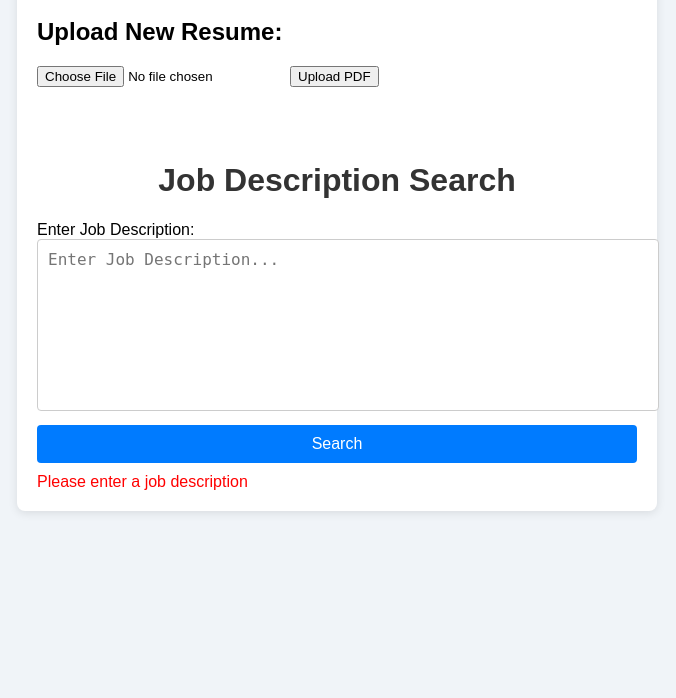
Test: App Component › displays evaluation results after successful search
The width and height of the screenshot is (676, 698).
Type "Software Engineer" into the text box labelled "Enter Job Description:" at x=348, y=325, box 37,239 -> 659,411
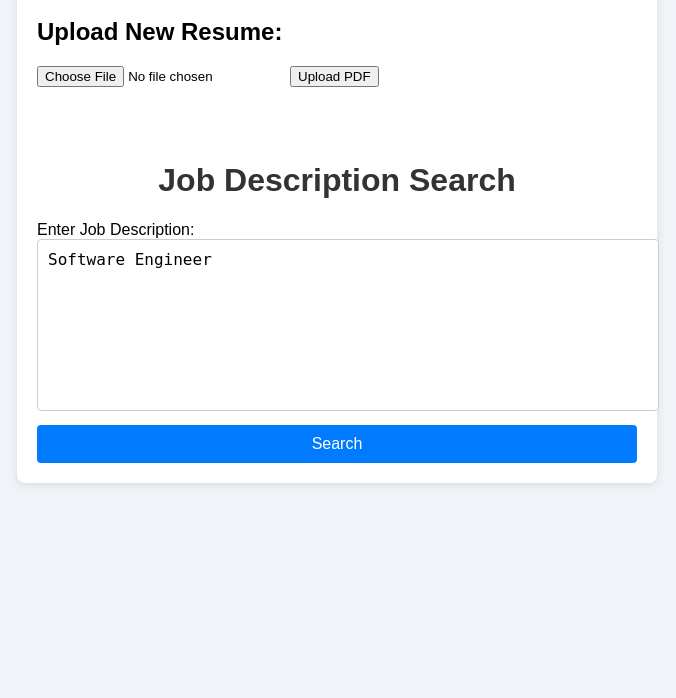
Click the button "Search" at x=337, y=444, box 37,425 -> 637,463
(page scrolled)
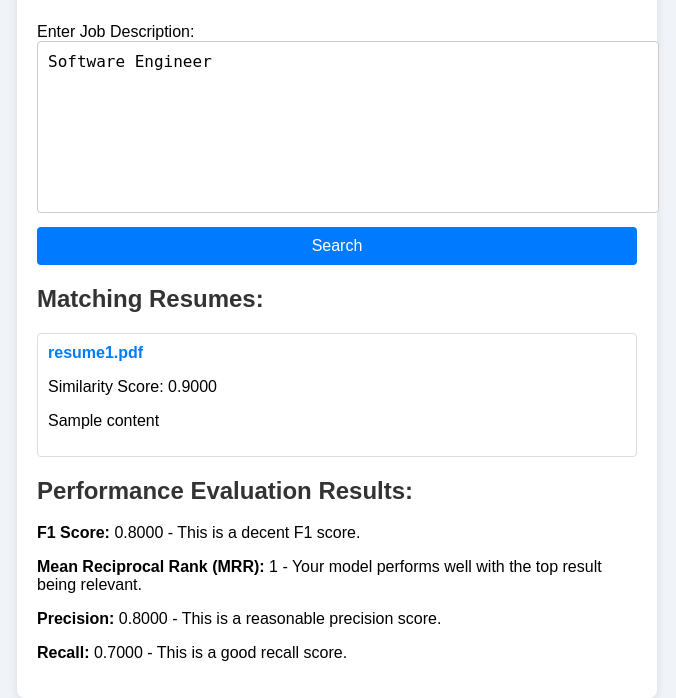
Result: the text "F1 Score:" is shown at 37,524 -> 110,541
Result: the text "Mean Reciprocal Rank (MRR):" is shown at 37,558 -> 265,575
Result: the text "Precision:" is shown at 37,610 -> 114,627
